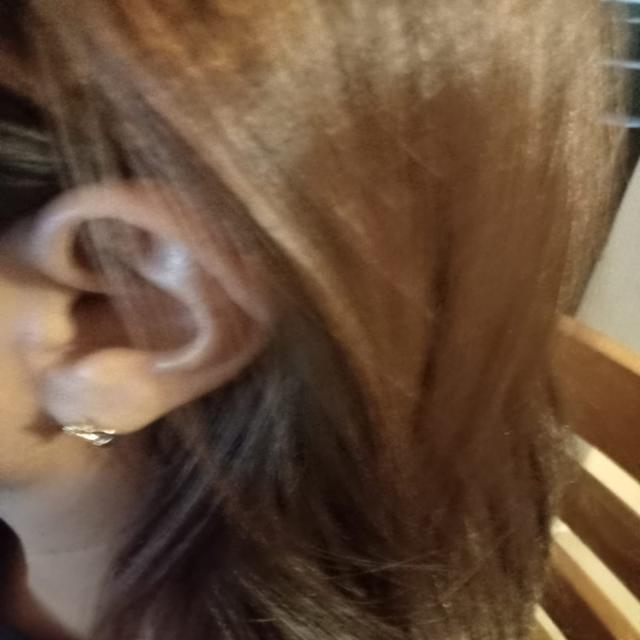ear: (23, 179, 271, 434)
